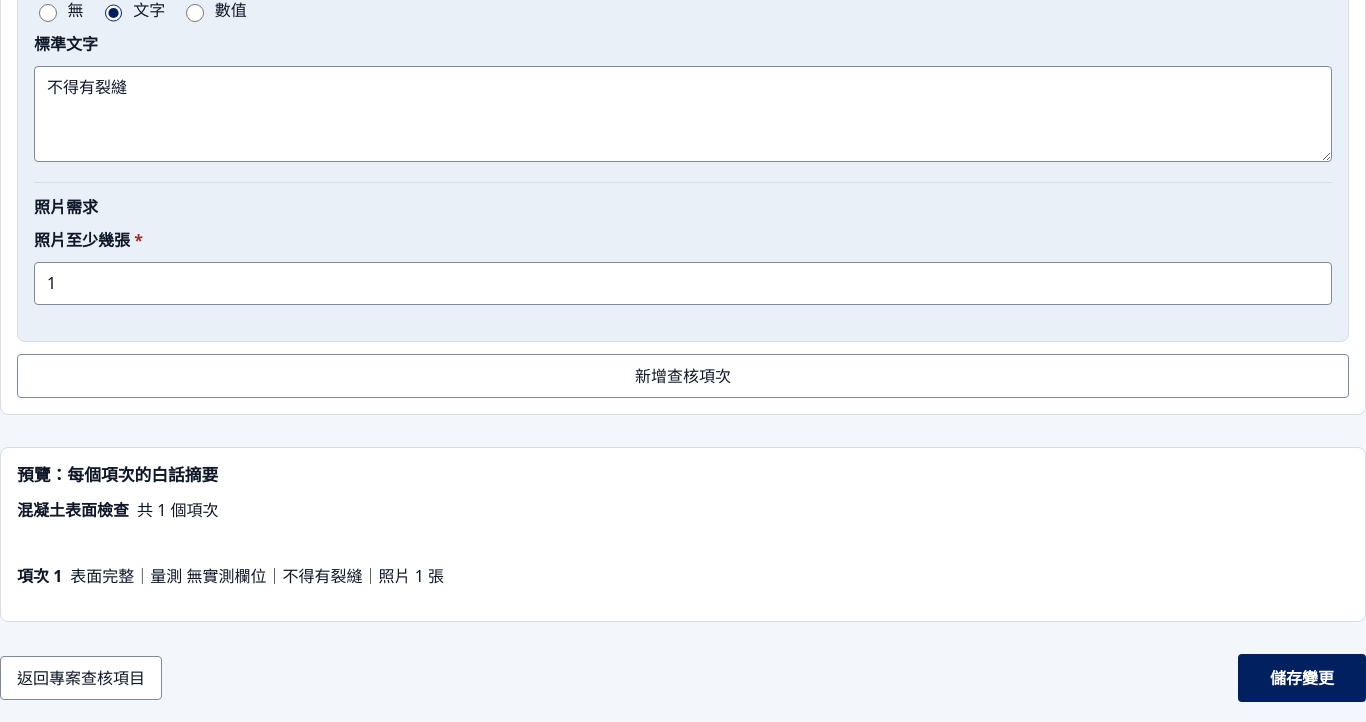
Test case: ProjectItemChangePage › asks no question when only draft Tasks use the item (#487)
(page scrolled)
Click the button "儲存變更": (1302, 678) x1=1238 y1=654 x2=1365 y2=702
(page scrolled)
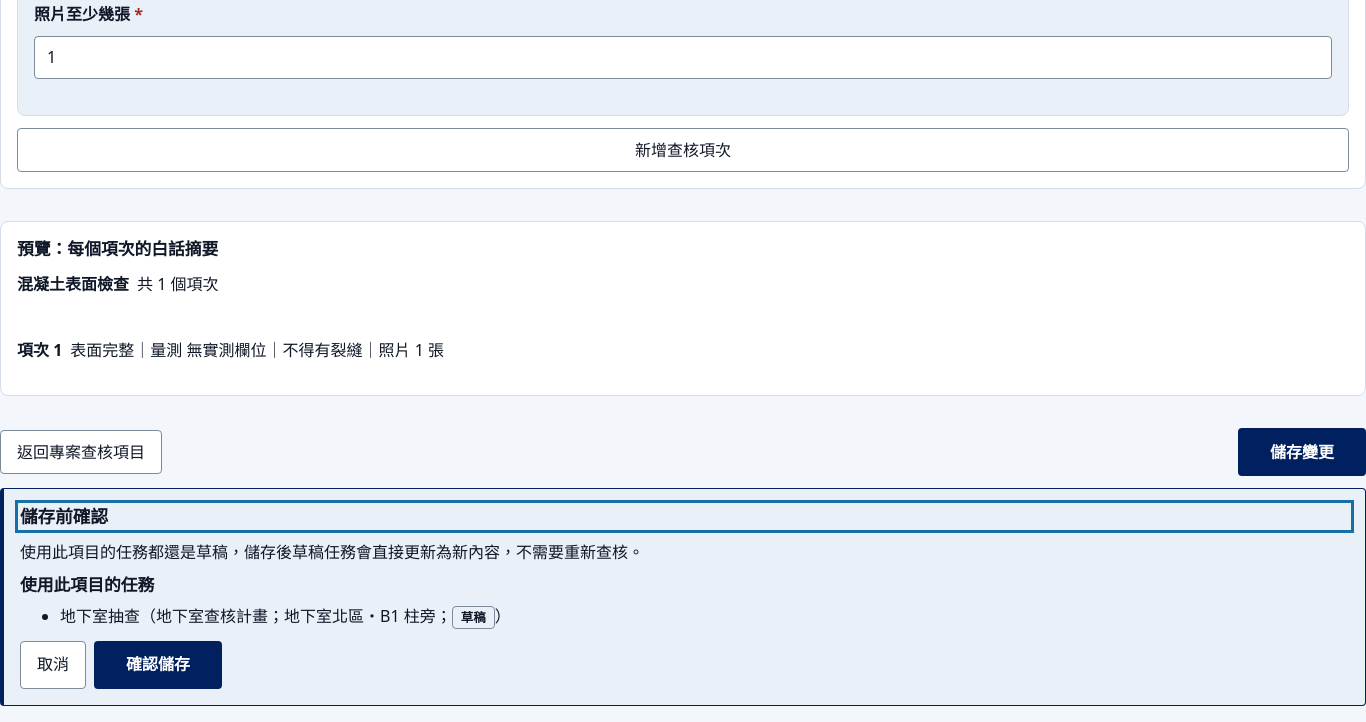
Expected: the text "使用此項目的任務都還是草稿，儲存後草稿任務會直接更新為新內容，不需要重新查核。" is shown, x1=20 y1=541 x2=644 y2=563
Click the button "確認儲存": (158, 665) x1=94 y1=641 x2=222 y2=689
(page scrolled)
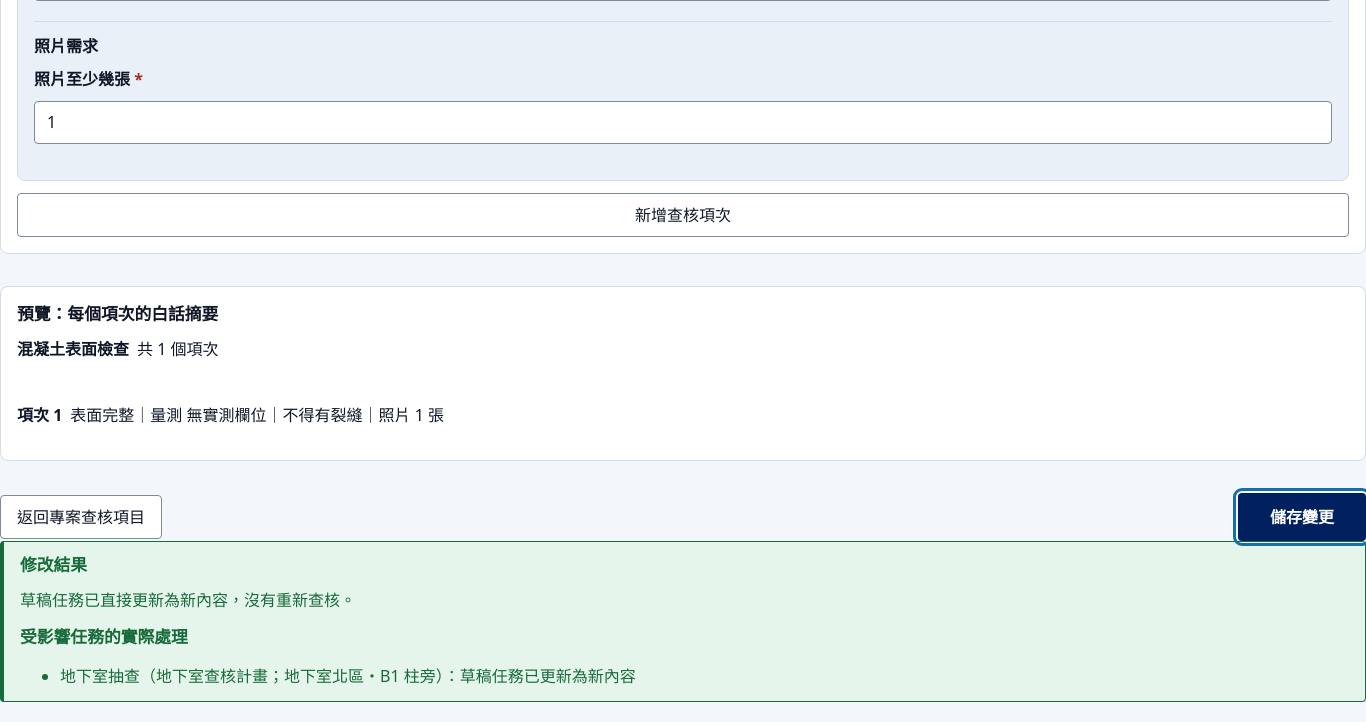
Expected: the text "草稿任務已直接更新為新內容，沒有重新查核。" is shown, x1=20 y1=589 x2=356 y2=611
